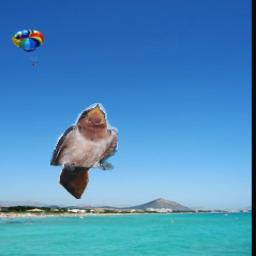Swallow: (51, 103, 119, 170), (59, 158, 96, 200)
